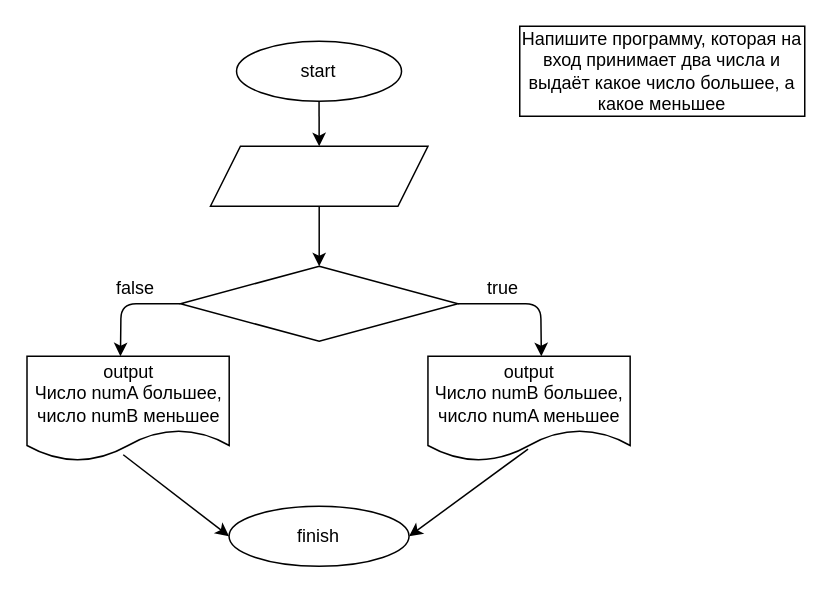
Image size: 831x593. Some labels were removed from this diagram. Here are the shapes that lost their labels. From the top down, the centre of each, then its label:
pixel 318 175: input numA, numB
pixel 318 303: numB > numA
